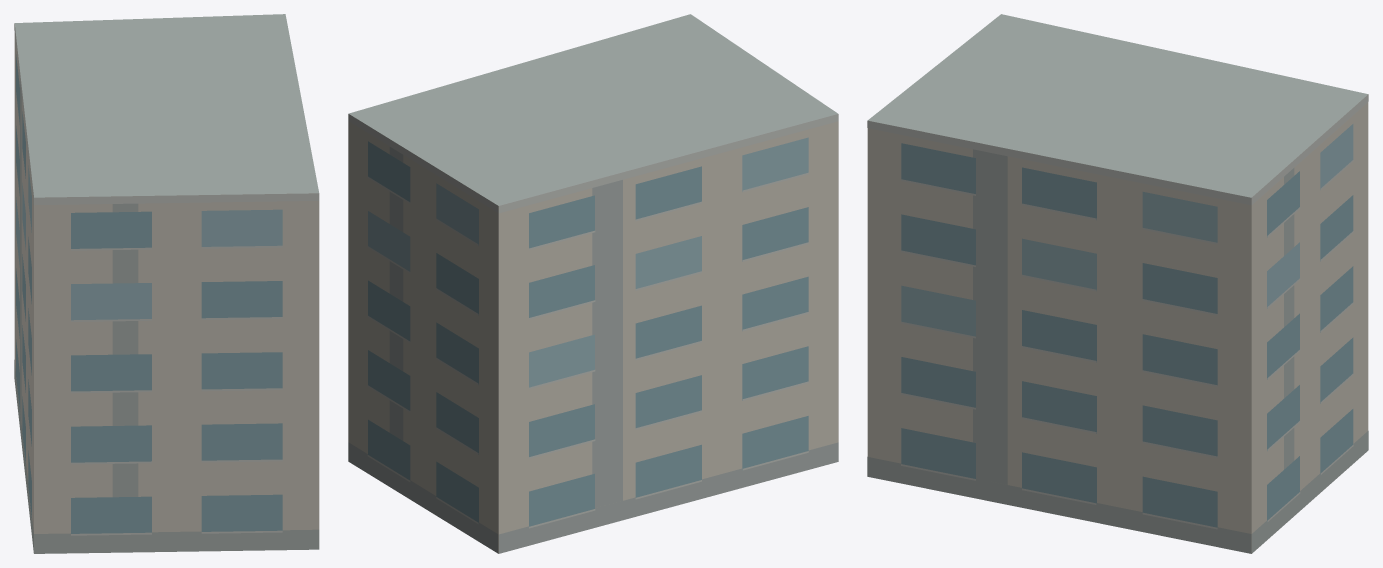
File: survey-upis-32953323.glb
3 views of the same model, side by side, from view 1: azimuth 30°, elevation 25°; view 2: azimuth 150°, elevation 25°; view 3: azimuth 270°, elevation 25° (orthographic). The views are drawn at different scales.
Parts seen in each view (by area): view 1: survey-upis-32953323.tmp; view 2: survey-upis-32953323.tmp; view 3: survey-upis-32953323.tmp.
Part boxes in pixels (box(x1,y1,x2,y2)): survey-upis-32953323.tmp: box(14, 14, 319, 553); survey-upis-32953323.tmp: box(348, 14, 838, 553); survey-upis-32953323.tmp: box(867, 14, 1368, 553).
Size of the model in its own units: 12.74 by 11.5 by 14.67.
